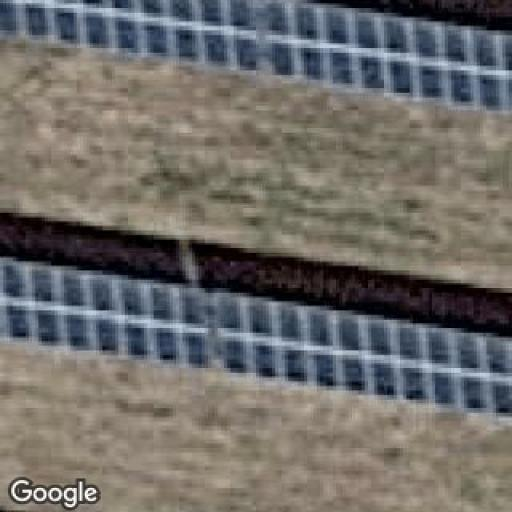solar-panel: (0, 266, 512, 416), (0, 0, 512, 115)
